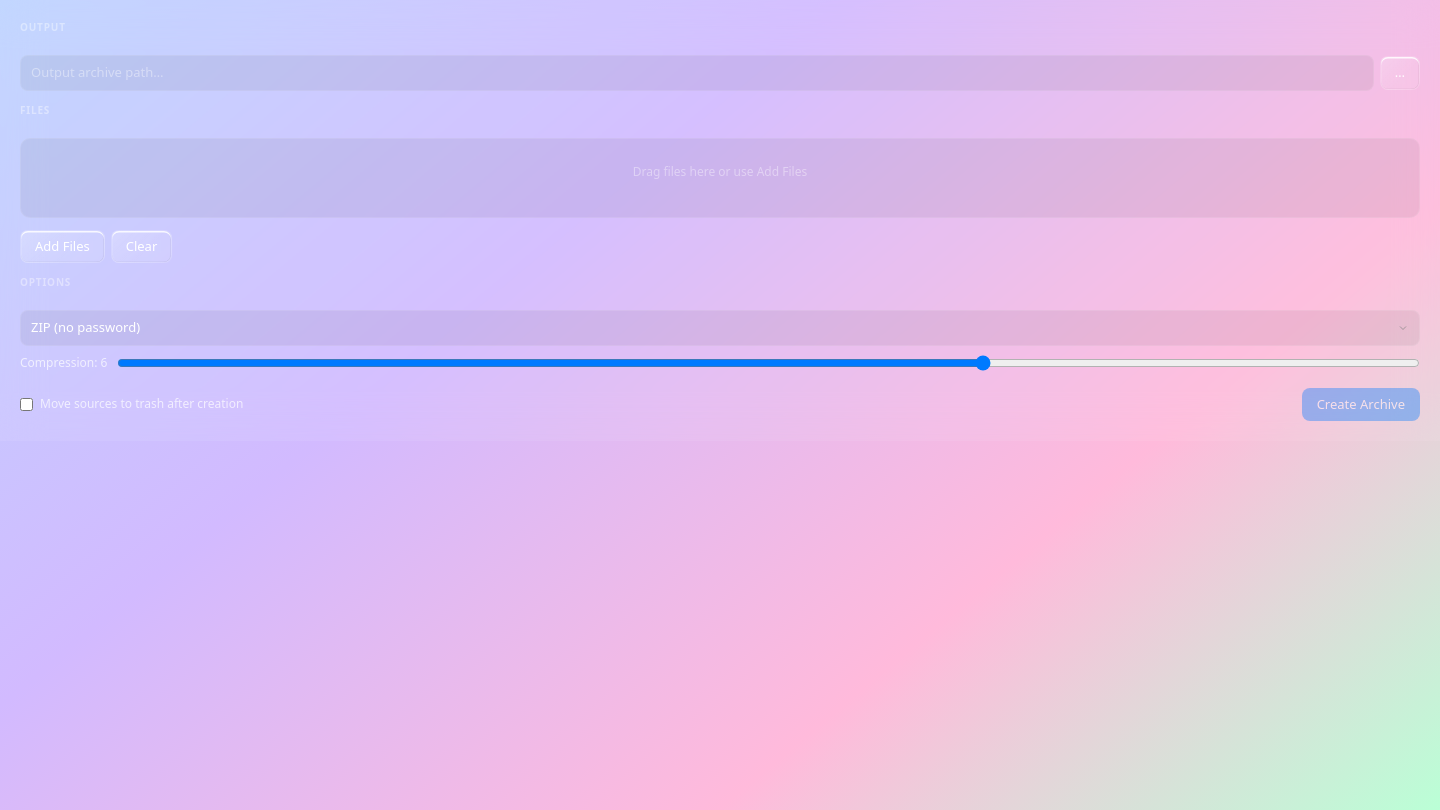
Test case: CreatePanel › shows success log after successful creation
Click the button "…" at (1400, 73), box [1380,56,1420,90]
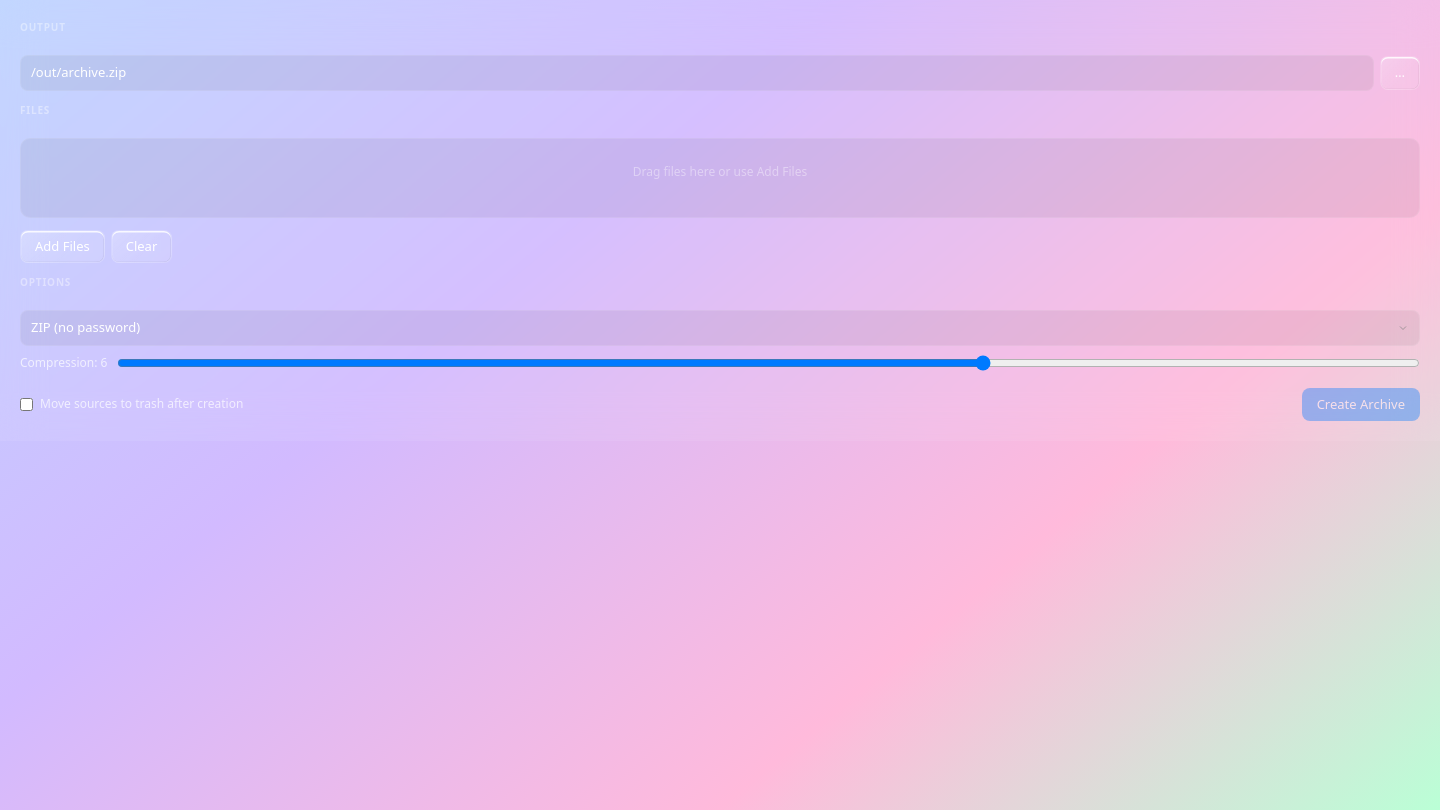
Click the button "Add Files" at (62, 246), box [20,230,105,263]
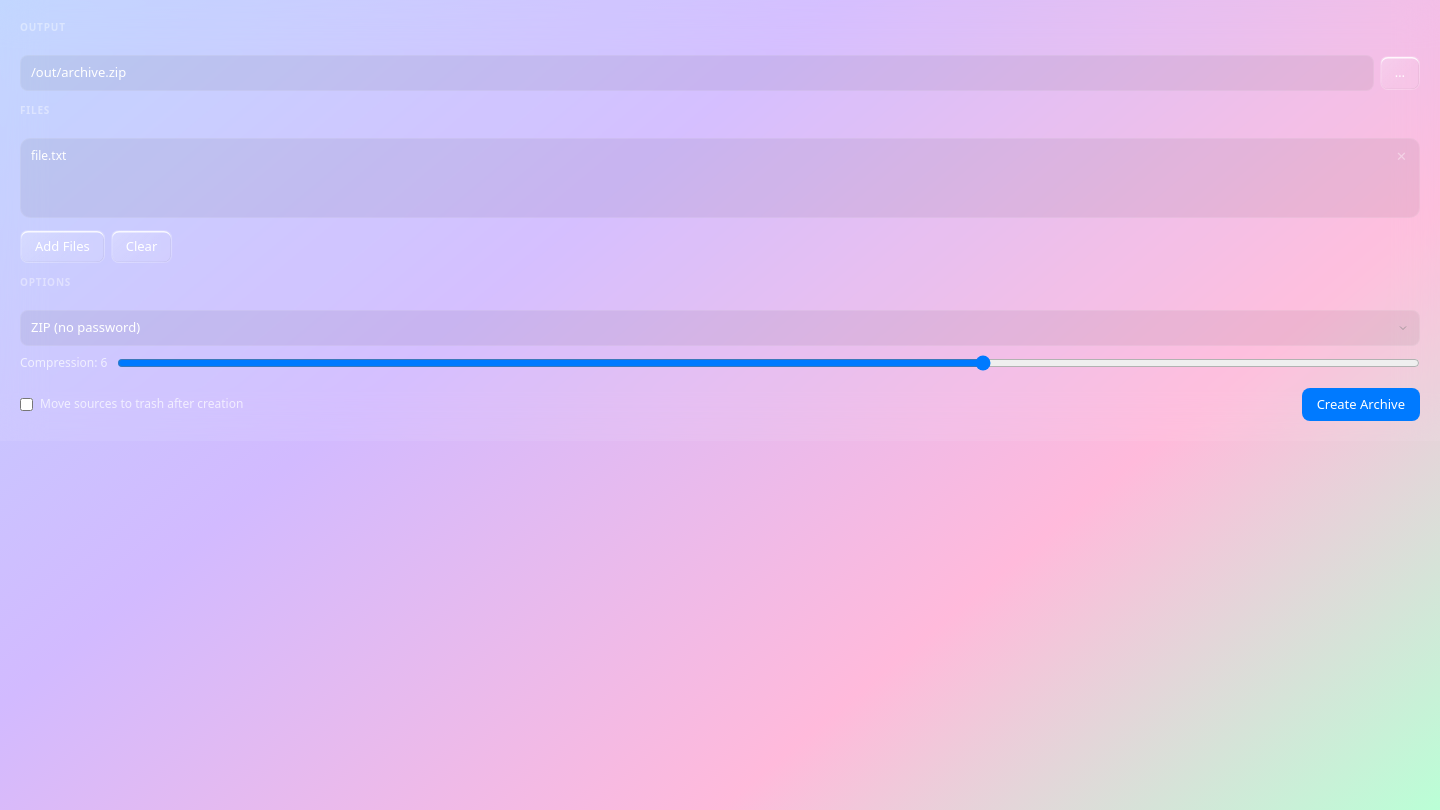
Check: the text "file.txt" is shown, box [31,147,66,165]
Click the button "Create Archive" at (1361, 404), box [1302,388,1420,421]
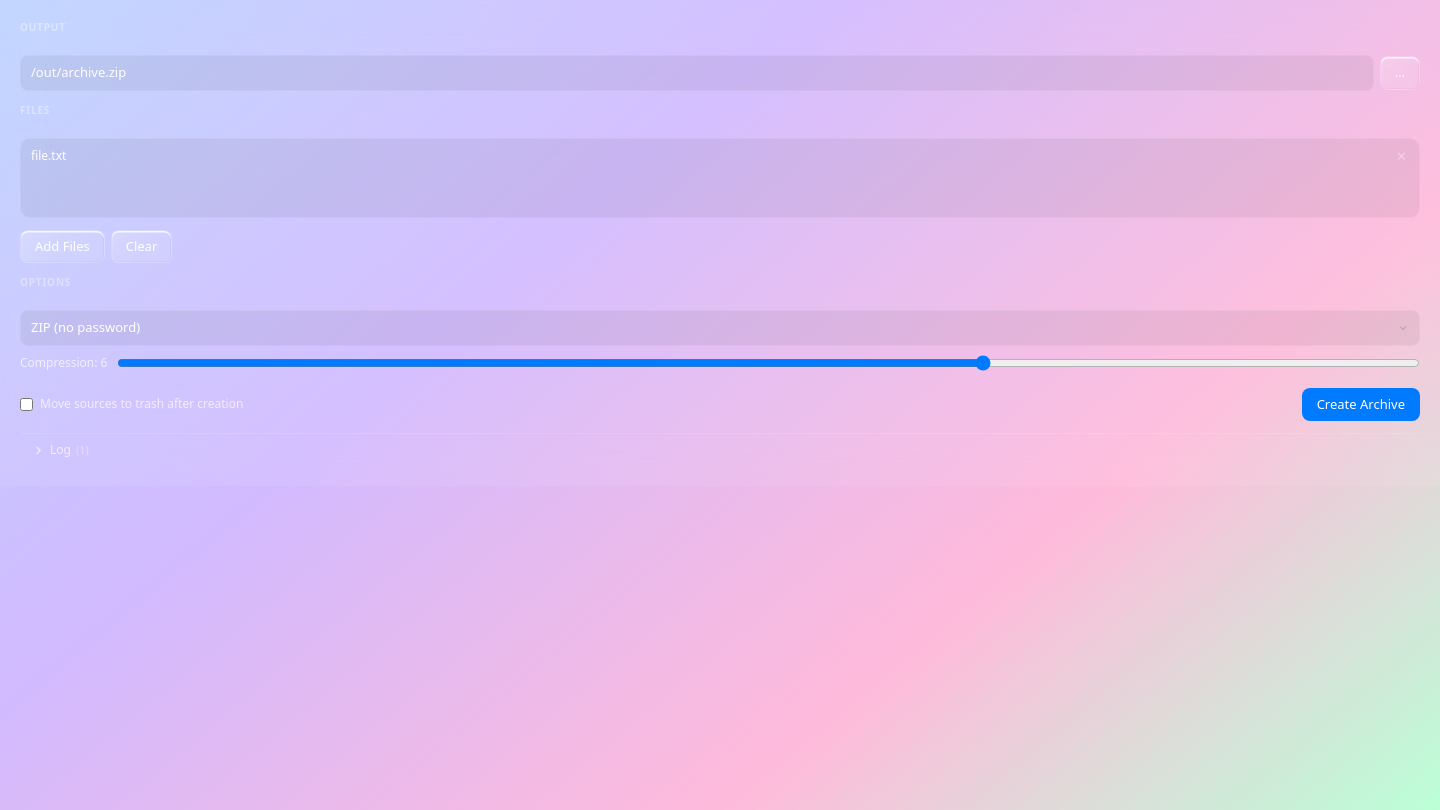
Check: the text "Log" is shown
Click the text "Log" at (60, 450), box [50,441,71,459]
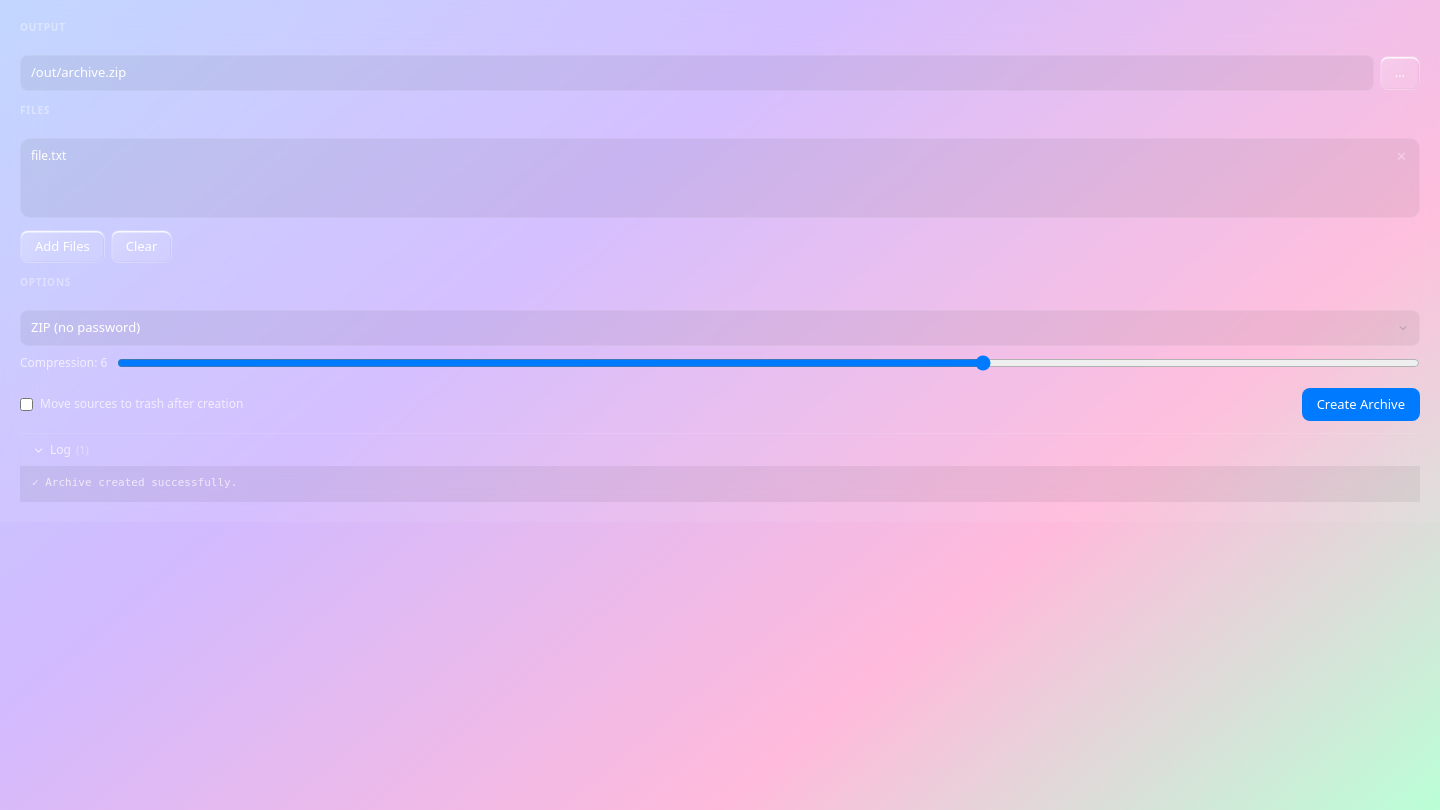
Check: the text "✓ Archive created successfully." is shown, box [20,466,1420,502]
